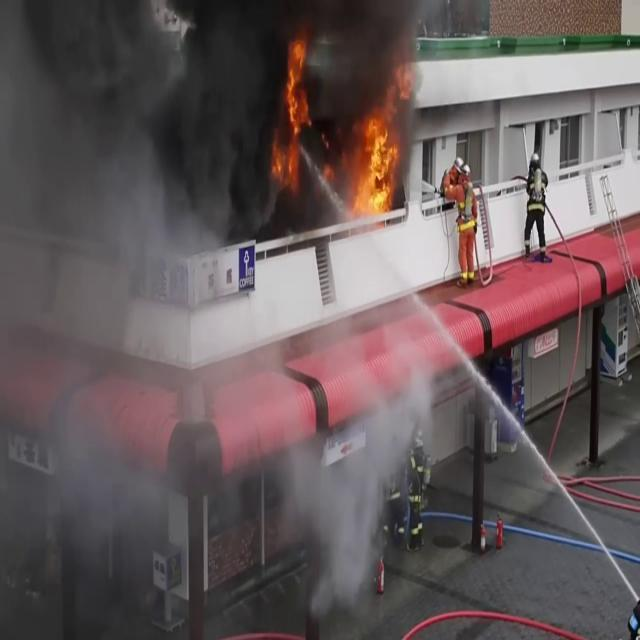Fire: (348, 78, 408, 222), (270, 29, 316, 188)
Smoke: (0, 0, 413, 252), (0, 2, 156, 516)
